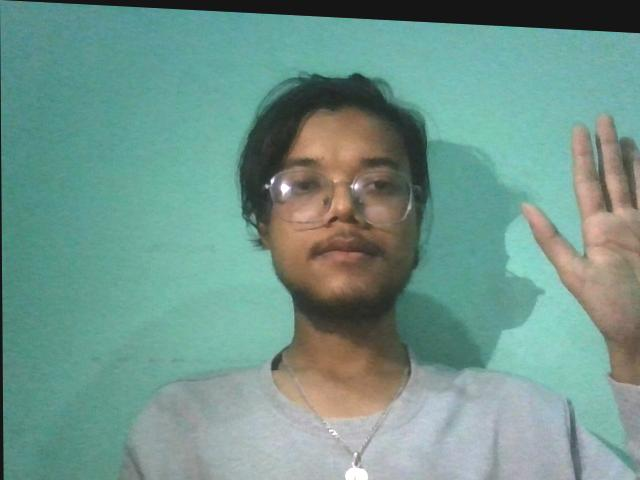hello: (512, 94, 640, 366)
